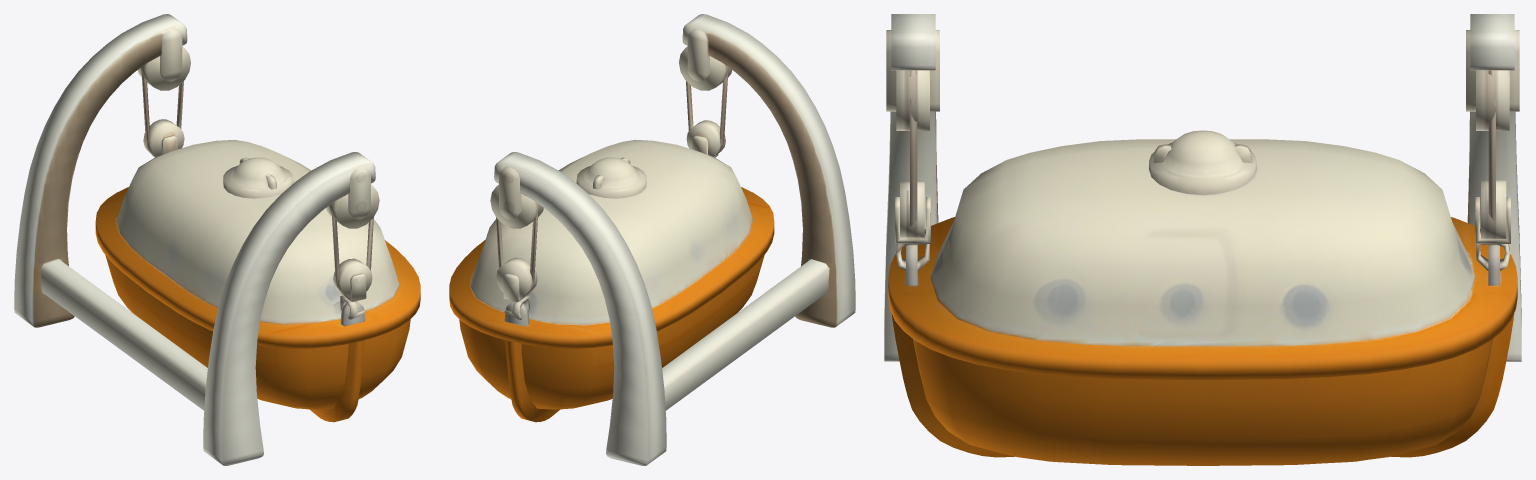
Rendered from cs_lifeboat_davits.glb.
The picture shows the model from 3 angles, left to right: view 1: azimuth 30°, elevation 25°; view 2: azimuth 150°, elevation 25°; view 3: azimuth 270°, elevation 25°; orthographic projection. The views are drawn at different scales.
Visible parts, largest first — view 1: cs_lifeboat_davits; view 2: cs_lifeboat_davits; view 3: cs_lifeboat_davits.
Part boxes in pixels (box(x1,y1,x2,y2)): cs_lifeboat_davits: box(14, 14, 420, 465); cs_lifeboat_davits: box(449, 14, 855, 465); cs_lifeboat_davits: box(884, 14, 1521, 465).
Bounding box in the file's own units: 0.6753 × 0.7173 × 0.9702.
Materials: 1 (1 with a texture image).
